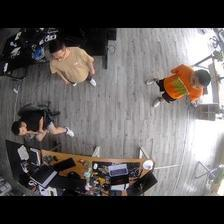normal: (143, 64, 210, 108), (47, 42, 97, 87), (13, 112, 74, 141)
